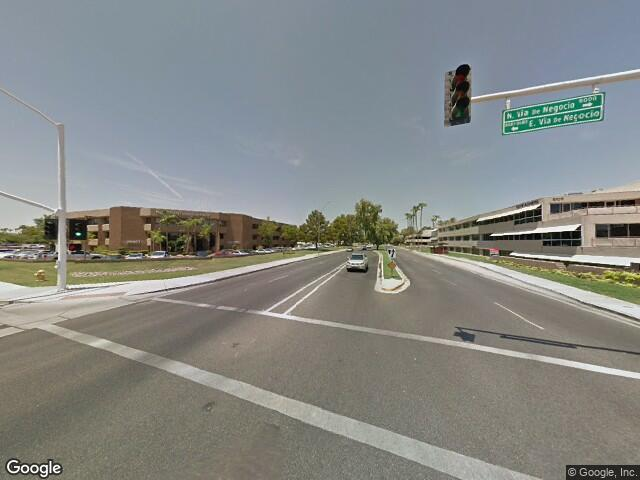c: (41, 285, 134, 304)
l: (44, 296, 639, 463)
